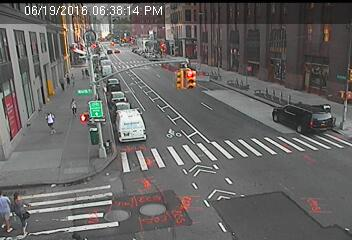neg: (179, 54, 190, 68), (194, 57, 204, 71)
pos: (38, 108, 59, 135), (67, 96, 82, 116), (57, 76, 67, 90), (82, 66, 92, 79), (63, 73, 71, 83), (78, 67, 86, 77)
